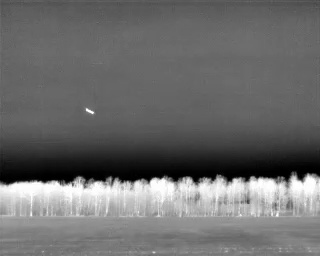DRONE: (81, 103, 98, 120)
